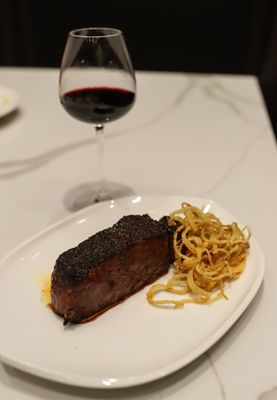curry: (3, 28, 277, 400)
sandwich: (59, 28, 140, 211)
sushi: (49, 214, 172, 325)
